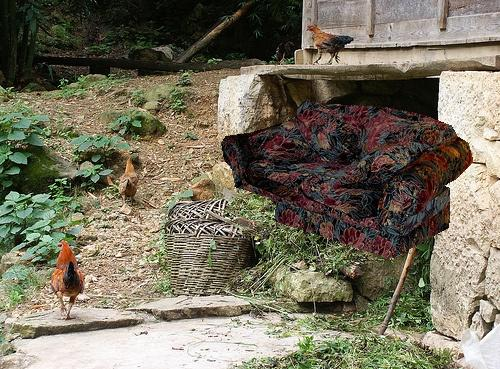tampered: (222, 101, 473, 258)
